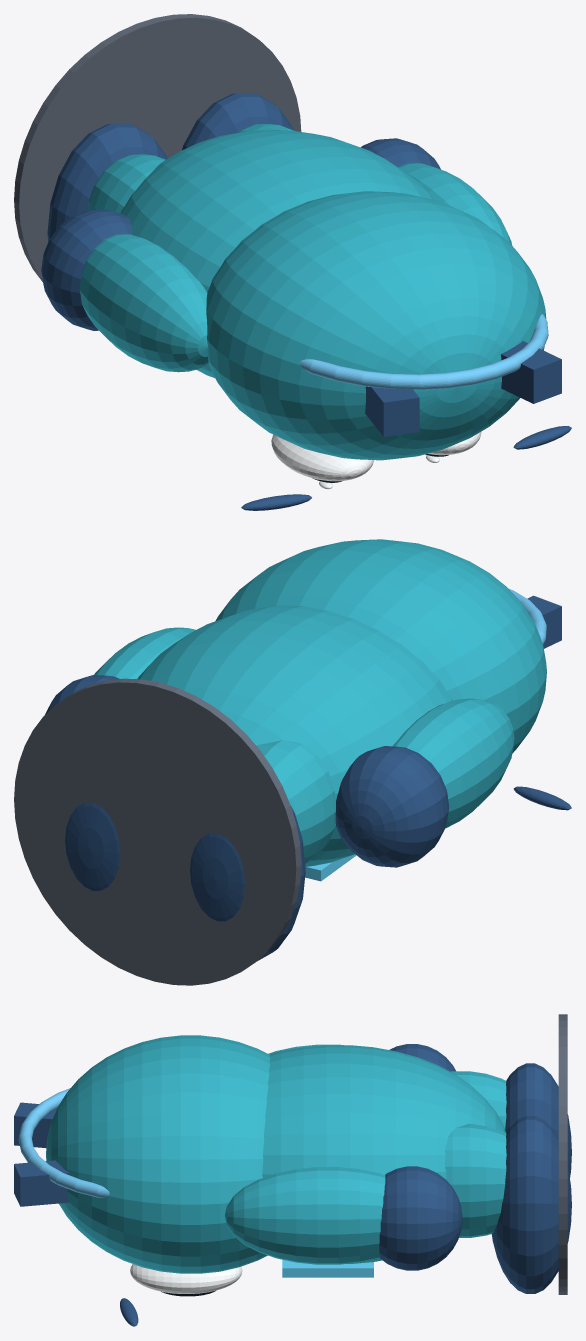
Rendered from luma_reaction_occupancy.glb.
The picture shows the model from 3 angles, top to bottom: view 1: azimuth 30°, elevation 25°; view 2: azimuth 150°, elevation 25°; view 3: azimuth 270°, elevation 25°; orthographic projection. The views are drawn at different scales.
Parts seen in each view (by area): view 1: CHR_Head, CHR_DisplayBase, CHR_Torso, CHR_LeftArm, CHR_LeftHand, CHR_LeftFoot, CHR_StatusRing, CHR_RightFoot, CHR_RightArm, CHR_LeftLeg, CHR_RightAntenna, CHR_LeftEyeWhite (+4 smaller); view 2: CHR_DisplayBase, CHR_Torso, CHR_Head, CHR_LeftHand, CHR_LeftArm, CHR_LeftLeg, CHR_LeftFoot, CHR_RightFoot, CHR_RightArm, CHR_LeftAntenna, CHR_LeftBrow, CHR_RightHand (+1 smaller); view 3: CHR_Head, CHR_Torso, CHR_RightArm, CHR_RightFoot, CHR_RightHand, CHR_RightLeg, CHR_LeftFoot, CHR_DisplayBase, CHR_StatusRing, CHR_RightEyeWhite, CHR_RightAntenna, CHR_ChestSensor (+3 smaller).
Part boxes in pixels (bbox=[...]): CHR_Head: bbox=[206, 191, 546, 460]; CHR_DisplayBase: bbox=[14, 14, 301, 281]; CHR_Torso: bbox=[120, 130, 434, 377]; CHR_LeftArm: bbox=[79, 234, 208, 372]; CHR_LeftHand: bbox=[41, 209, 132, 330]; CHR_LeftFoot: bbox=[47, 123, 167, 241]; CHR_StatusRing: bbox=[300, 314, 548, 389]; CHR_RightFoot: bbox=[182, 93, 293, 150]; CHR_RightArm: bbox=[398, 163, 512, 245]; CHR_LeftLeg: bbox=[88, 154, 165, 213]; CHR_RightAntenna: bbox=[500, 341, 561, 403]; CHR_LeftEyeWhite: bbox=[271, 434, 373, 481]; CHR_DisplayBase: bbox=[14, 678, 301, 985]; CHR_Torso: bbox=[137, 605, 452, 866]; CHR_Head: bbox=[215, 539, 546, 753]; CHR_LeftHand: bbox=[335, 746, 449, 867]; CHR_LeftArm: bbox=[393, 698, 514, 828]; CHR_LeftLeg: bbox=[257, 740, 335, 863]; CHR_LeftFoot: bbox=[190, 806, 305, 960]; CHR_RightFoot: bbox=[65, 802, 120, 890]; CHR_RightArm: bbox=[94, 627, 195, 678]; CHR_LeftAntenna: bbox=[527, 595, 561, 648]; CHR_LeftBrow: bbox=[513, 786, 571, 810]; CHR_RightHand: bbox=[45, 675, 119, 714]; CHR_Head: bbox=[46, 1035, 270, 1273]; CHR_Torso: bbox=[262, 1045, 505, 1263]; CHR_RightArm: bbox=[225, 1167, 385, 1264]; CHR_RightFoot: bbox=[491, 1116, 571, 1293]; CHR_RightHand: bbox=[379, 1166, 462, 1270]; CHR_RightLeg: bbox=[444, 1123, 506, 1237]; CHR_LeftFoot: bbox=[505, 1063, 571, 1177]; CHR_DisplayBase: bbox=[558, 1014, 567, 1294]; CHR_StatusRing: bbox=[18, 1088, 109, 1198]; CHR_RightEyeWhite: bbox=[130, 1264, 242, 1293]; CHR_RightAntenna: bbox=[14, 1160, 69, 1206]; CHR_ChestSensor: bbox=[282, 1259, 373, 1277].
Size of the model in its own units: 2.64 by 1.9 by 3.78.
